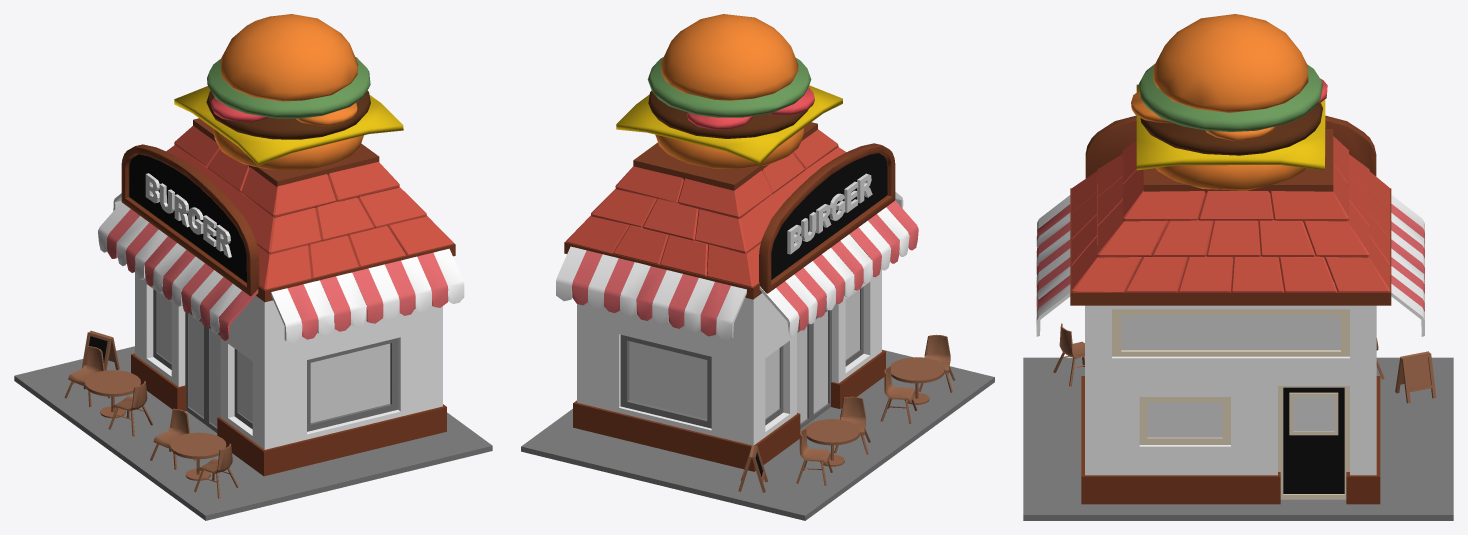
File: bugerHouse.fbx
3 renders of one model, left to right at view 1: azimuth 30°, elevation 25°; view 2: azimuth 150°, elevation 25°; view 3: azimuth 270°, elevation 25°, orthographic. The views are drawn at different scales.
Parts seen in each view (by area): view 1: Circle.018, Cube.663, Plane.188, Cube.010, Plane.189, Plane.192, Plane.190, Plane.194, Circle.025, Plane.138, Text.011, Cube.665 (+2 smaller); view 2: Circle.018, Cube.010, Plane.188, Cube.663, Plane.189, Plane.192, Plane.190, Plane.194, Circle.025, Plane.138, Cube.665, Text.011 (+2 smaller); view 3: Cube.663, Plane.188, Circle.018, Cube.010, Plane.201, Plane.198, Plane.194, Plane.189, Cube.666, Plane.199, Plane.190, Plane.192 (+3 smaller).
Boxes of the visible parts, x1=… form: Circle.018: x1=174, y1=14, x2=403, y2=170; Cube.663: x1=166, y1=126, x2=453, y2=290; Plane.188: x1=135, y1=272, x2=442, y2=449; Cube.010: x1=14, y1=346, x2=492, y2=520; Plane.189: x1=98, y1=193, x2=464, y2=343; Plane.192: x1=157, y1=292, x2=390, y2=426; Plane.190: x1=121, y1=144, x2=259, y2=296; Plane.194: x1=131, y1=353, x2=446, y2=476; Circle.025: x1=64, y1=346, x2=238, y2=498; Plane.138: x1=153, y1=289, x2=397, y2=432; Text.011: x1=145, y1=173, x2=231, y2=257; Cube.665: x1=193, y1=118, x2=379, y2=186; Circle.018: x1=616, y1=14, x2=842, y2=168; Cube.010: x1=521, y1=349, x2=994, y2=520; Plane.188: x1=577, y1=268, x2=881, y2=445; Cube.663: x1=566, y1=129, x2=846, y2=287; Plane.189: x1=556, y1=192, x2=918, y2=340; Plane.192: x1=629, y1=289, x2=859, y2=423; Plane.190: x1=759, y1=143, x2=895, y2=293; Plane.194: x1=573, y1=350, x2=885, y2=471; Circle.025: x1=796, y1=334, x2=955, y2=485; Plane.138: x1=620, y1=287, x2=863, y2=429; Cube.665: x1=633, y1=122, x2=817, y2=190; Text.011: x1=787, y1=173, x2=872, y2=254; Cube.663: x1=1071, y1=136, x2=1390, y2=292; Plane.188: x1=1085, y1=283, x2=1376, y2=475; Circle.018: x1=1131, y1=14, x2=1327, y2=190; Cube.010: x1=1023, y1=357, x2=1453, y2=520; Plane.201: x1=1121, y1=315, x2=1340, y2=431; Plane.198: x1=1112, y1=309, x2=1349, y2=499; Plane.194: x1=1081, y1=376, x2=1380, y2=504; Plane.189: x1=1036, y1=195, x2=1424, y2=336; Cube.666: x1=1070, y1=188, x2=1391, y2=305; Plane.199: x1=1283, y1=387, x2=1344, y2=493; Plane.190: x1=1085, y1=115, x2=1376, y2=178; Plane.192: x1=1147, y1=402, x2=1222, y2=437.
Size of the model in its own units: 0.6936 by 0.8994 by 0.801.
